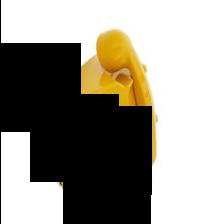yellow: (42, 30, 155, 194)
